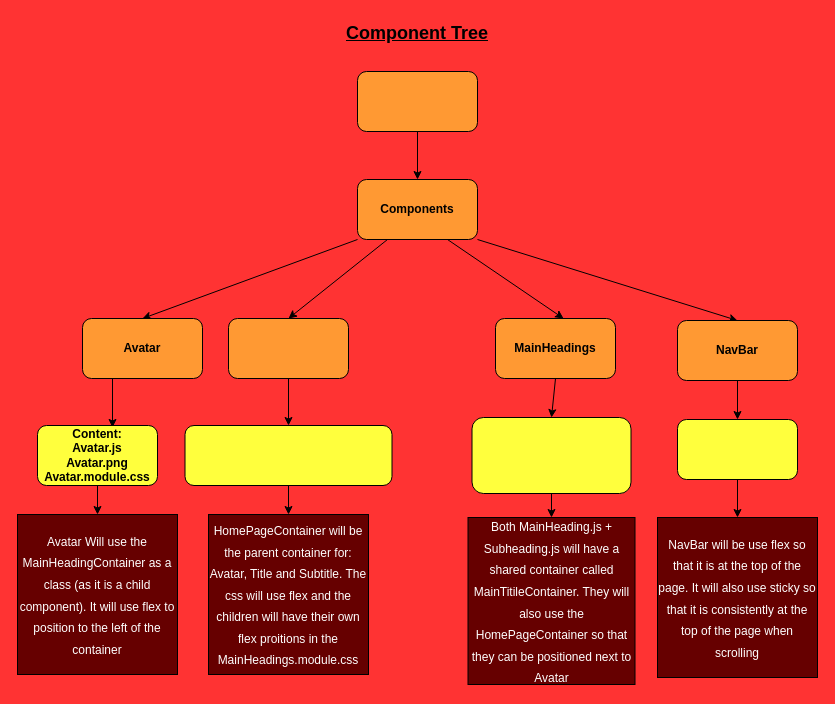
Some shapes in this 835 by 704 pixel diagram are drawn without their labels. Here are the shapes that lost their labels. From the top down, the centre of each, then its label:
the point at 417,101: Index.js
the point at 288,348: HomePageContainer
the point at 288,455: Content: HomePageContainer.js HomePageContainer.module.css MainTitleContainer
the point at 551,455: Content: MainHeading.js MainHeadings.module.css SubHeading.js
the point at 737,449: Content: NavBar.js NavBar.module.css
